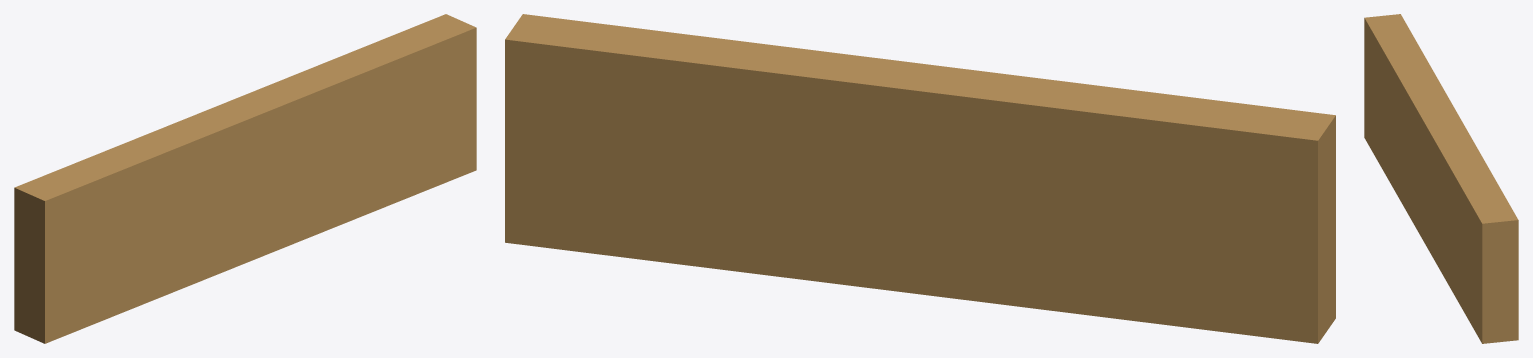
3 views of the same model, side by side, from view 1: azimuth 30°, elevation 25°; view 2: azimuth 150°, elevation 25°; view 3: azimuth 270°, elevation 25° (orthographic). The views are drawn at different scales.
Parts seen in each view (by area): view 1: FF-A-OPEN-03-00-HEAD; view 2: FF-A-OPEN-03-00-HEAD; view 3: FF-A-OPEN-03-00-HEAD.
Part boxes in pixels (x1=…): FF-A-OPEN-03-00-HEAD: x1=14, y1=14, x2=476, y2=343; FF-A-OPEN-03-00-HEAD: x1=505, y1=14, x2=1335, y2=343; FF-A-OPEN-03-00-HEAD: x1=1364, y1=14, x2=1518, y2=343.
Size of the model in its own units: 1.2 by 0.32 by 0.3716.
